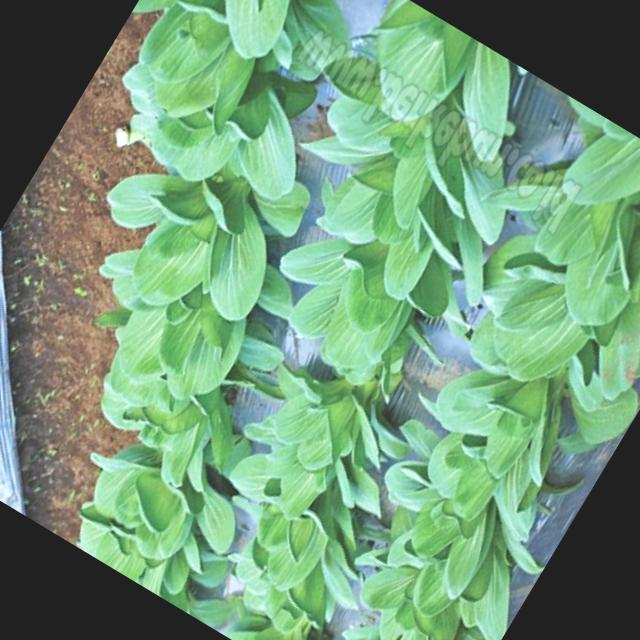pakcoy_sehat: (72, 94, 330, 346)
